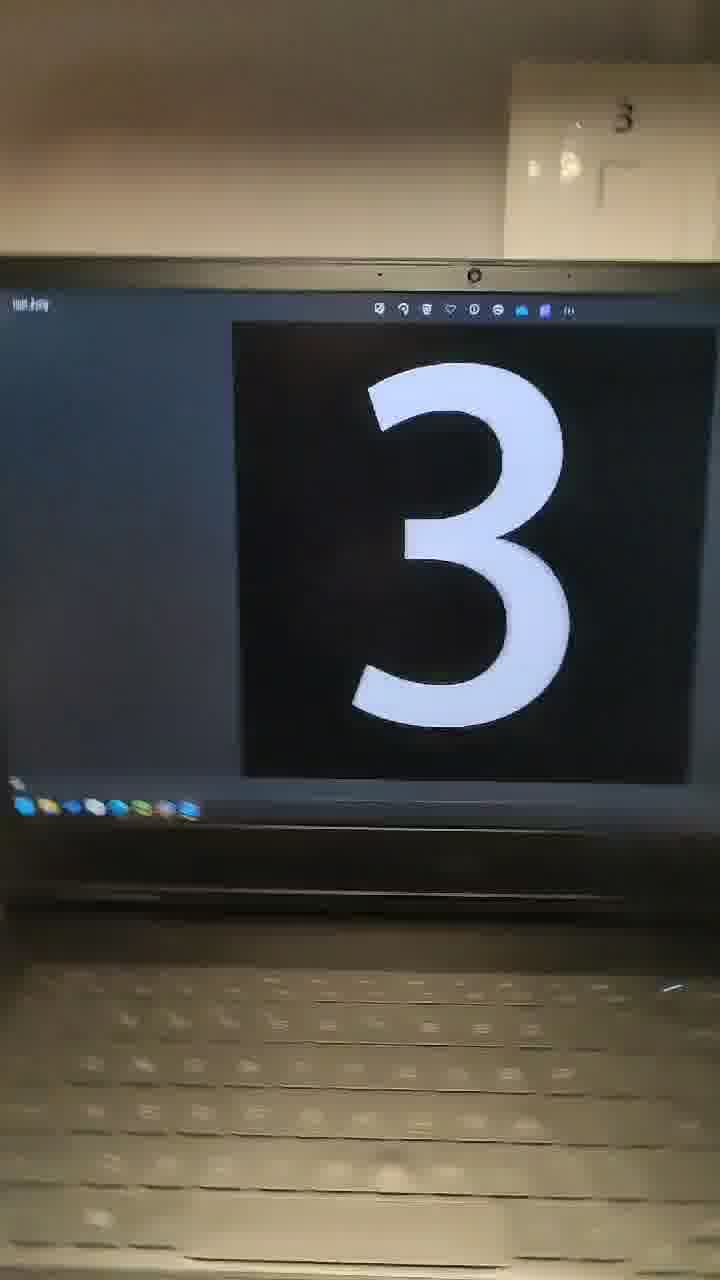three: (228, 283, 675, 863)
